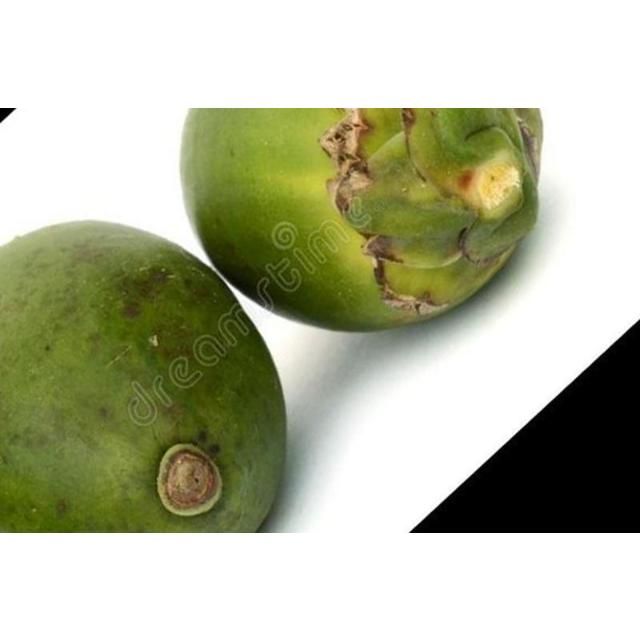good: (0, 220, 288, 532), (178, 107, 543, 333)
